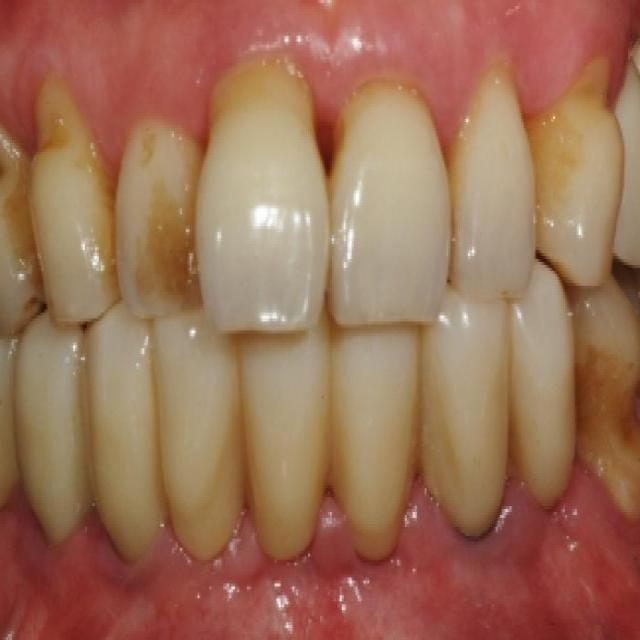CALCULUS: (136, 193, 205, 326), (80, 148, 133, 308), (591, 337, 640, 484), (0, 158, 47, 296), (528, 119, 586, 225), (137, 122, 174, 180)
